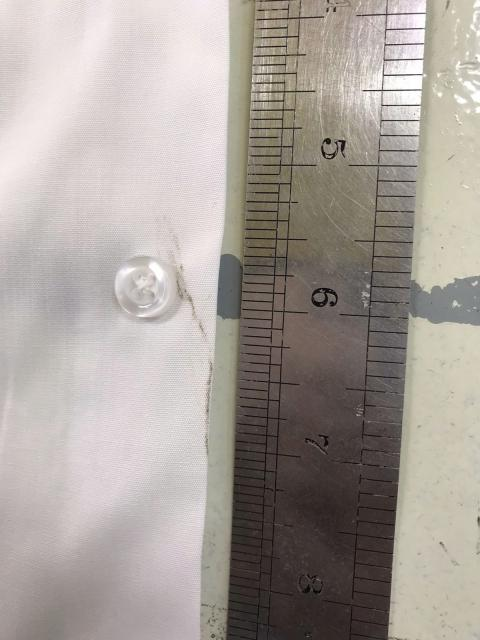Dirty_mark: (164, 212, 211, 340), (205, 355, 211, 460)
